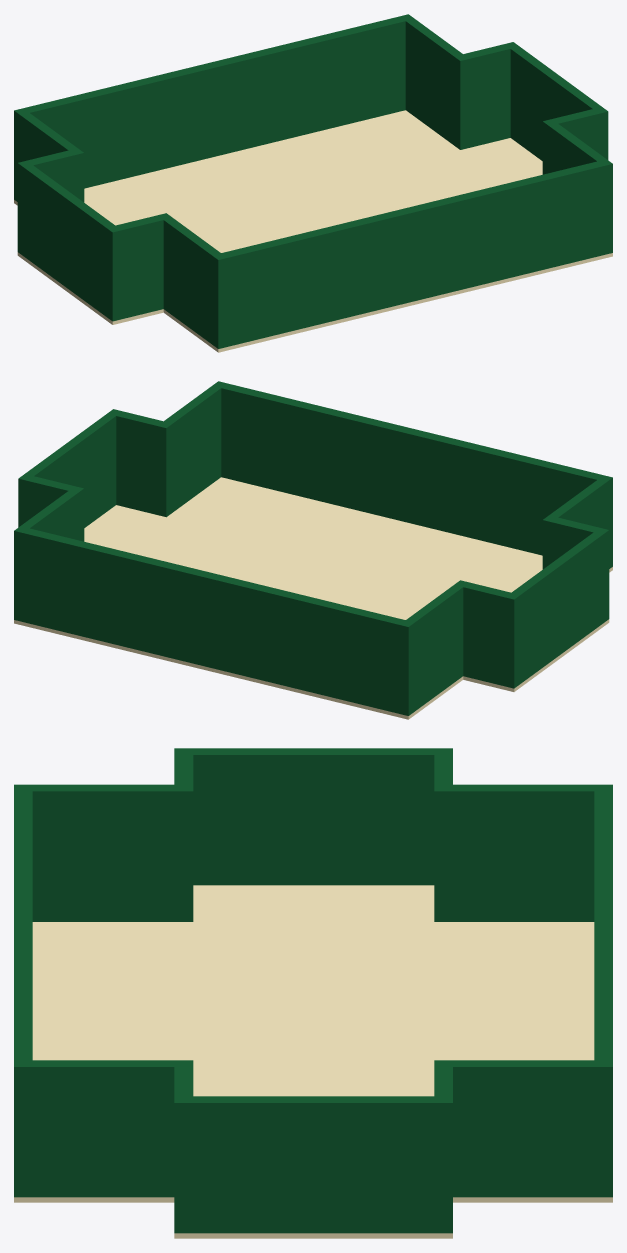
The model's file is ESCENARIO(copia).fbx.
3 renders of one model, top to bottom at view 1: azimuth 30°, elevation 25°; view 2: azimuth 150°, elevation 25°; view 3: azimuth 270°, elevation 25°, orthographic. The views are drawn at different scales.
Visible parts, largest first — view 1: escenario; view 2: escenario; view 3: escenario.
Boxes of the visible parts, <box> form: escenario: <box>14,14,612,352</box>; escenario: <box>14,381,612,719</box>; escenario: <box>14,748,612,1238</box>.
Bounding box in the file's own units: 25.73 × 4.59 × 18.37.
